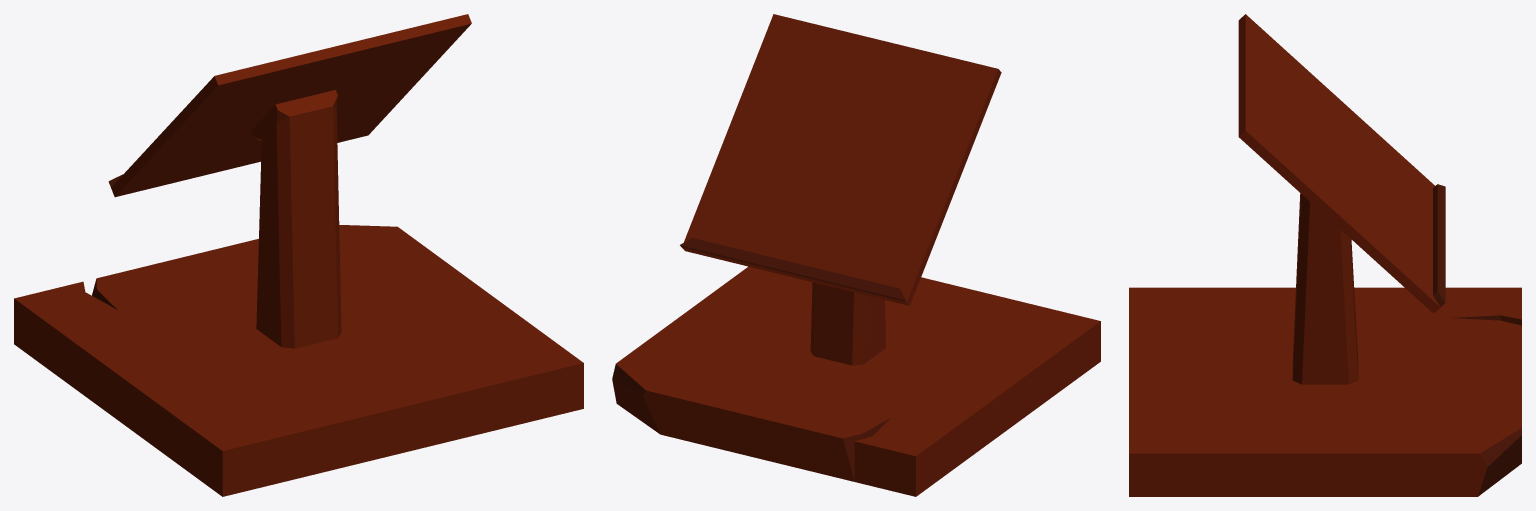
Rendered from ScrollStand.fbx.
3 renders of one model, left to right at view 1: azimuth 30°, elevation 25°; view 2: azimuth 150°, elevation 25°; view 3: azimuth 270°, elevation 25°, orthographic. The views are drawn at different scales.
Visible parts, largest first — view 1: Cube; view 2: Cube; view 3: Cube.
Boxes of the visible parts, box(x1,y1,x2,y2) form: Cube: box(14, 14, 583, 496); Cube: box(612, 14, 1100, 496); Cube: box(1129, 14, 1521, 496).
Bounding box in the file's own units: 200 × 192 × 200.
1 material, 1 textured.
